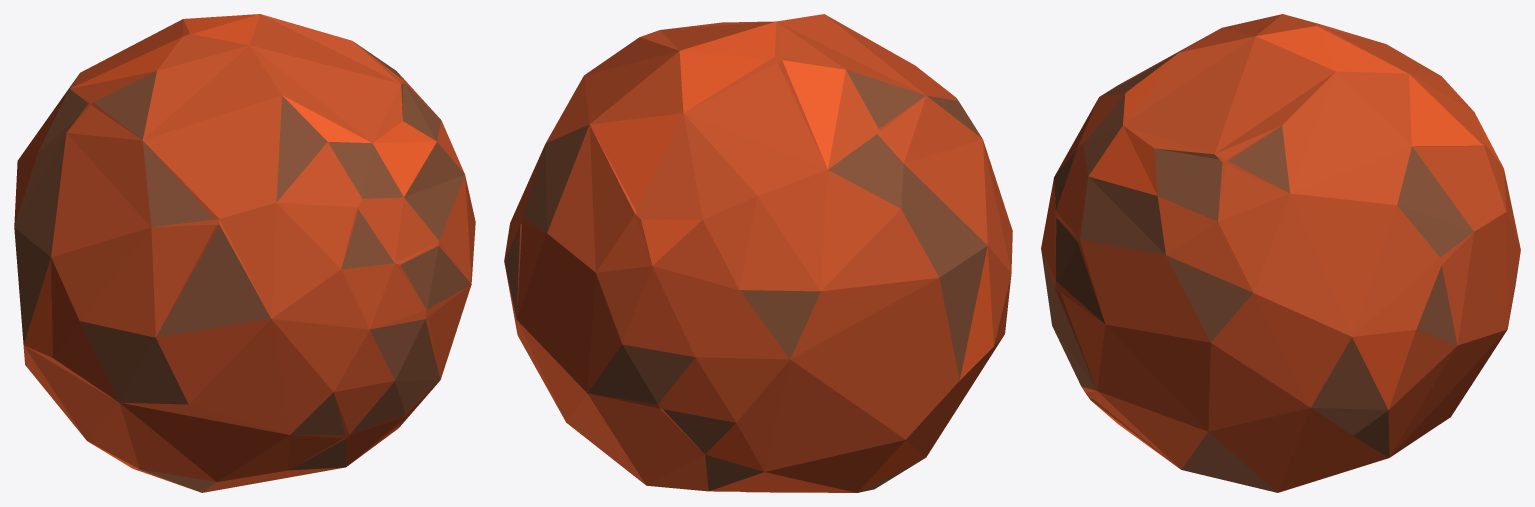
File: venus.glb
3 renders of one model, left to right at view 1: azimuth 30°, elevation 25°; view 2: azimuth 150°, elevation 25°; view 3: azimuth 270°, elevation 25°, orthographic. The views are drawn at different scales.
Parts seen in each view (by area): view 1: venus; view 2: venus; view 3: venus.
Boxes of the visible parts, <box> form: venus: <box>14,14,475,492</box>; venus: <box>504,14,1012,492</box>; venus: <box>1041,14,1520,492</box>.
Bounding box in the file's own units: 1.93 × 1.99 × 2.
1 material, 1 textured.
